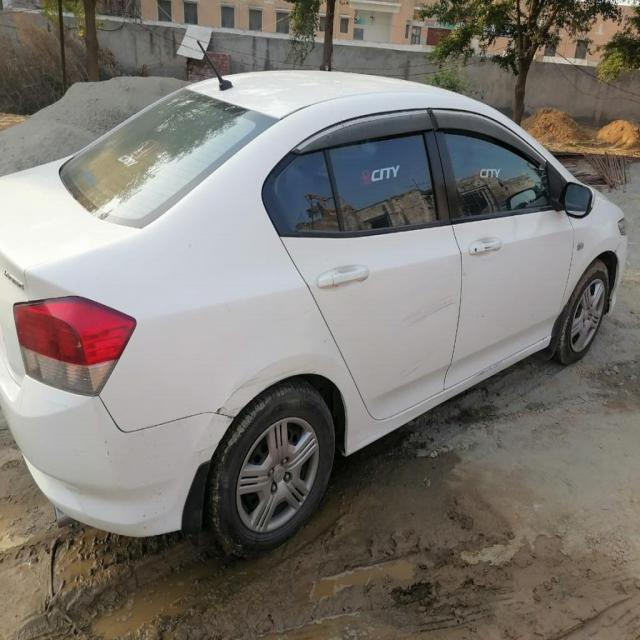scratch: (193, 366, 289, 428), (407, 292, 468, 322)
